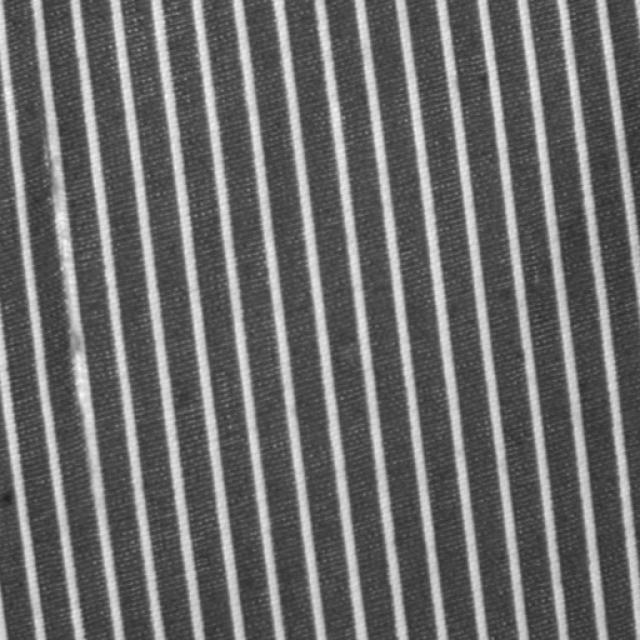Thread-Defect: (35, 116, 94, 420)
